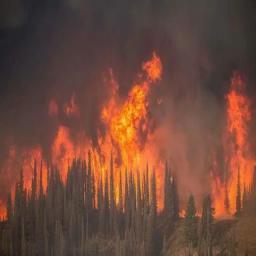Heavy smoke: (0, 1, 252, 145)
Large fire: (0, 45, 255, 223)
